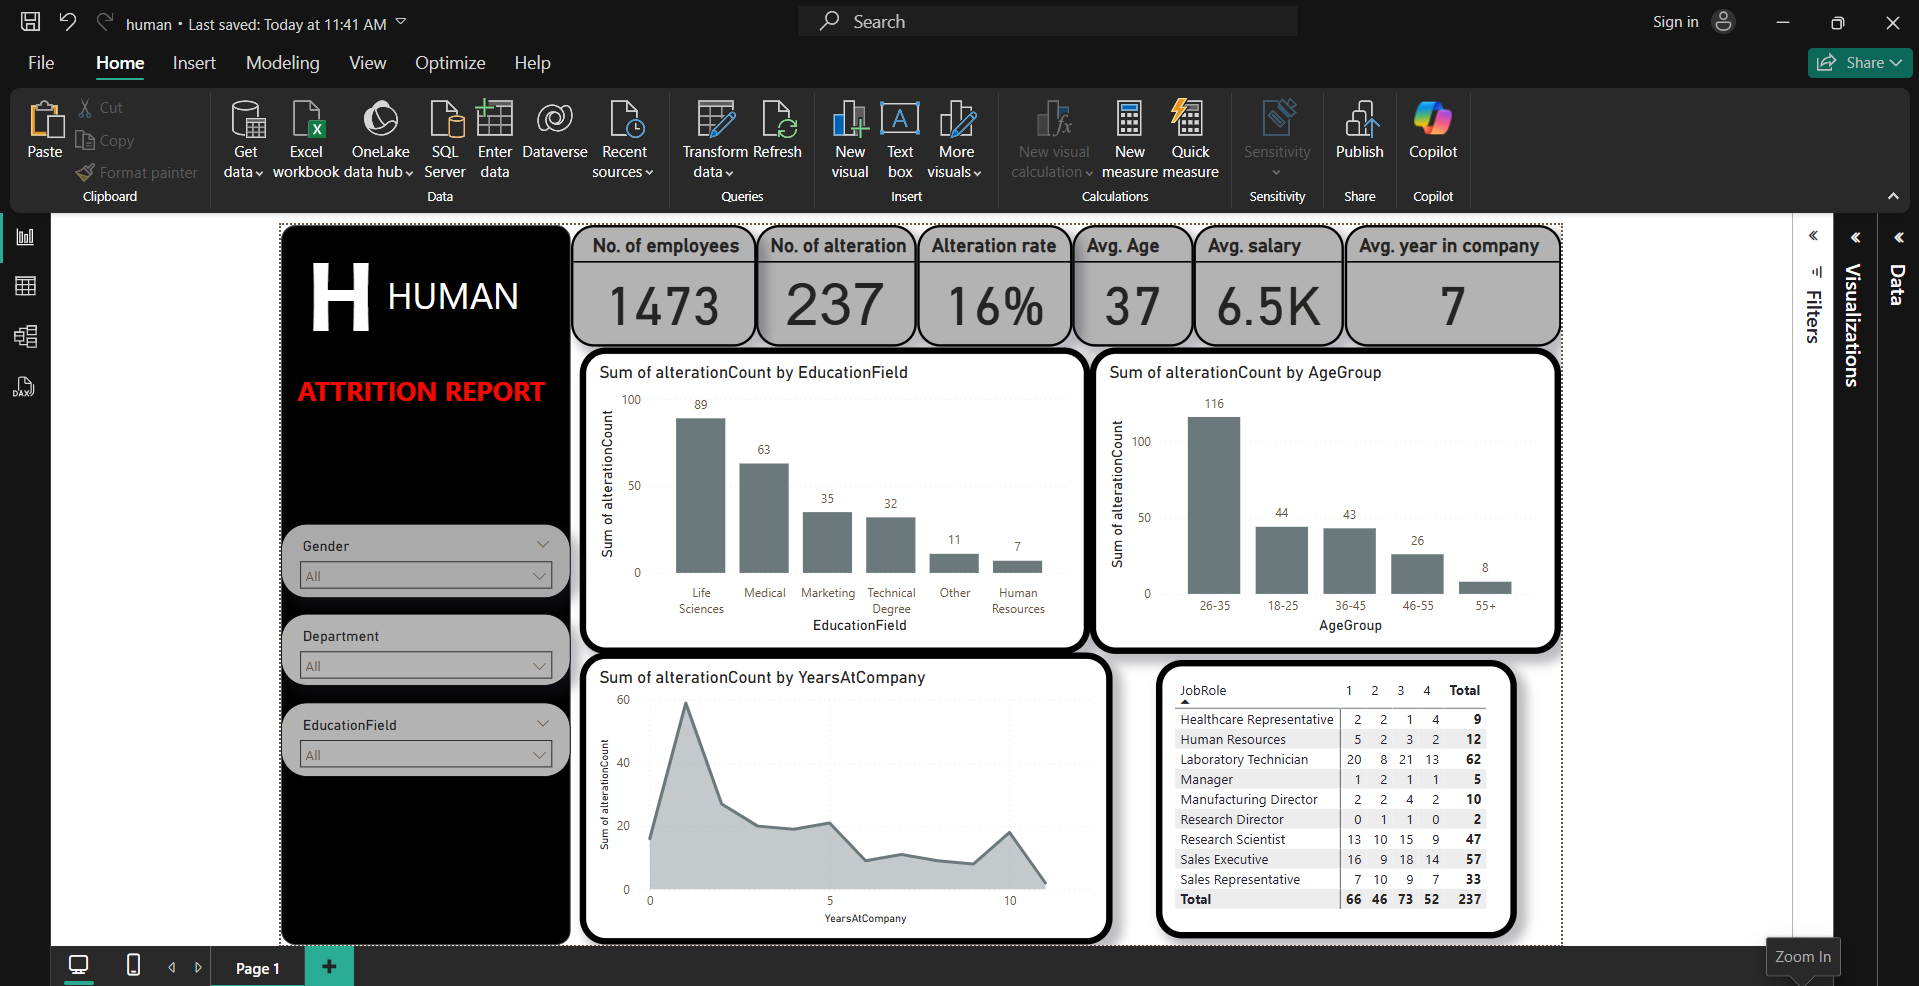

The page's visual inventory and layout, read from the dashboard file:
{"tool":"powerbi","page":{"name":"Page 1","canvas":[1280,720],"ordinal":0},"visuals":[{"type":"shape","box":[0,0,289.8,720.3],"z":0},{"type":"textbox","box":[19.9,0,87.1,143.1],"z":1000},{"type":"card","title":"No. of alteration","fields":{"Values":["Sum(HR.alterationCount)"]},"box":[475.2,0,160.5,121.9],"z":2000},{"type":"card","title":"No. of employees","fields":{"Values":["Sum(HR.EmployeeCount)"]},"box":[289.8,0,185.3,121.9],"z":3000},{"type":"card","title":"Avg. Age","fields":{"Values":["Avg(HR.Age)"]},"box":[791.2,0,121.9,121.9],"z":4000},{"type":"card","title":"Avg. salary","fields":{"Values":["Avg(HR.MonthlyIncome)"]},"box":[913.1,0,150.5,121.9],"z":5000},{"type":"card","title":"Alteration rate","fields":{"Values":["HR.rate"]},"box":[635.7,0,155.5,121.9],"z":6000},{"type":"card","title":"Avg. year in company","fields":{"Values":["Avg(HR.YearsAtCompany)"]},"box":[1063.6,0,216.4,121.9],"z":7000},{"type":"columnChart","fields":{"Category":["HR.EducationField"],"Y":["Sum(HR.alterationCount)"]},"box":[298.6,121.9,510,306],"z":8000},{"type":"columnChart","fields":{"Category":["HR.AgeGroup"],"Y":["Sum(HR.alterationCount)"]},"box":[808.6,121.9,471.5,306],"z":9000},{"type":"areaChart","fields":{"Y":["Sum(HR.alterationCount)"],"Category":["HR.YearsAtCompany"]},"box":[298.6,427.9,532.4,292.3],"z":10000},{"type":"pivotTable","fields":{"Rows":["HR.JobRole"],"Columns":["HR.JobSatisfaction"],"Values":["Sum(HR.alterationCount)"]},"box":[874.5,435.4,360.7,278.6],"z":11000},{"type":"slicer","fields":{"Values":["HR.Gender"]},"box":[0,298.6,289.8,74.6],"z":11001},{"type":"slicer","fields":{"Values":["HR.Department"]},"box":[0,389.4,289.8,72.1],"z":11002},{"type":"slicer","fields":{"Values":["HR.EducationField"]},"box":[0,477.7,289.8,74.6],"z":11003},{"type":"textbox","box":[11.2,143.1,268.7,57.2],"z":11004}]}

Visuals, with their boxes on the page's 1280x720 design canvas (x1, y1, x2, y2). These are canvas units, not pixel positions in the 1919x986 screenshot, which may show the page scaled, cropped or inside an application window:
shape: (left=0, top=0, right=290, bottom=720)
textbox: (left=20, top=0, right=107, bottom=143)
"No. of alteration" card: (left=475, top=0, right=636, bottom=122)
"No. of employees" card: (left=290, top=0, right=475, bottom=122)
"Avg. Age" card: (left=791, top=0, right=913, bottom=122)
"Avg. salary" card: (left=913, top=0, right=1064, bottom=122)
"Alteration rate" card: (left=636, top=0, right=791, bottom=122)
"Avg. year in company" card: (left=1064, top=0, right=1280, bottom=122)
columnChart - HR.EducationField x Sum(HR.alterationCount): (left=299, top=122, right=809, bottom=428)
columnChart - HR.AgeGroup x Sum(HR.alterationCount): (left=809, top=122, right=1280, bottom=428)
areaChart - Sum(HR.alterationCount) x HR.YearsAtCompany: (left=299, top=428, right=831, bottom=720)
pivotTable - HR.JobRole x HR.JobSatisfaction: (left=874, top=435, right=1235, bottom=714)
slicer - HR.Gender: (left=0, top=299, right=290, bottom=373)
slicer - HR.Department: (left=0, top=389, right=290, bottom=462)
slicer - HR.EducationField: (left=0, top=478, right=290, bottom=552)
textbox: (left=11, top=143, right=280, bottom=200)
